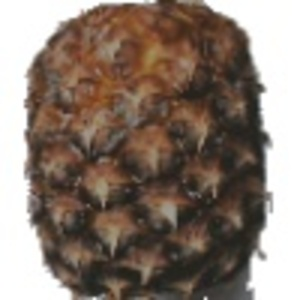abacaxi: (24, 3, 272, 298)
